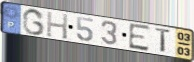3: (100, 20, 119, 47)
5: (76, 15, 95, 43)
E: (128, 22, 152, 53)
G: (22, 8, 46, 37)
H: (45, 10, 70, 41)
T: (154, 27, 173, 54)
